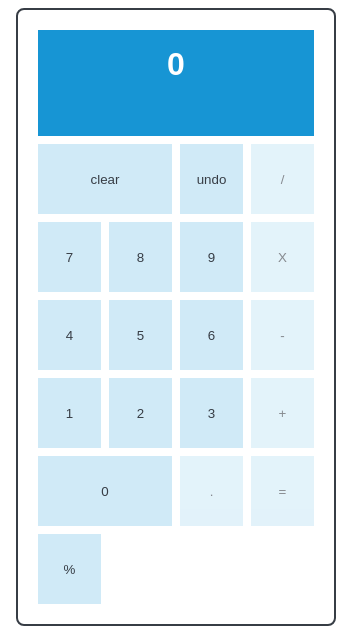
Test: Should clear last character when undo is pressed
Click the button "2" at (140, 413), box x1=109 y1=378 x2=172 y2=448
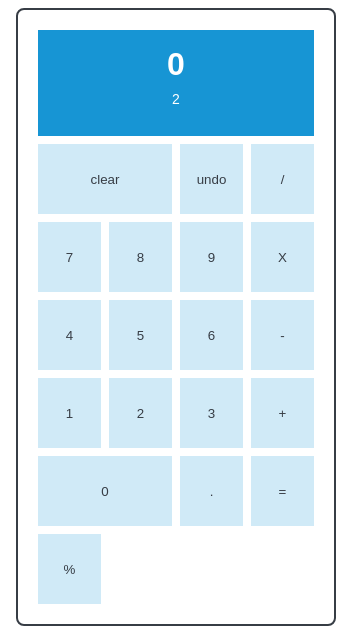
Click the button "3" at (212, 413), box x1=180 y1=378 x2=243 y2=448
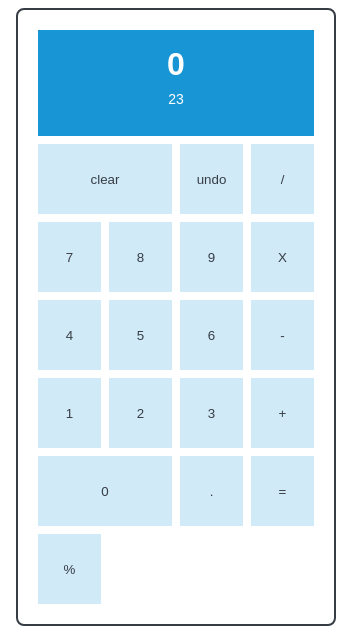
Check: the number of headings "23" is 1, box x1=168 y1=91 x2=184 y2=107
Click the button "undo" at (212, 179), box x1=180 y1=144 x2=243 y2=214
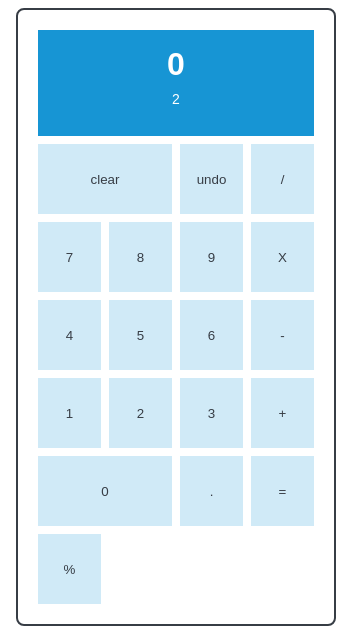
Check: the heading "23" is gone
